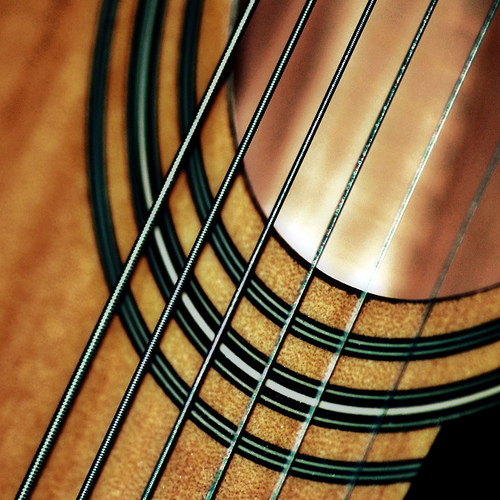guitar: (1, 1, 493, 500)
